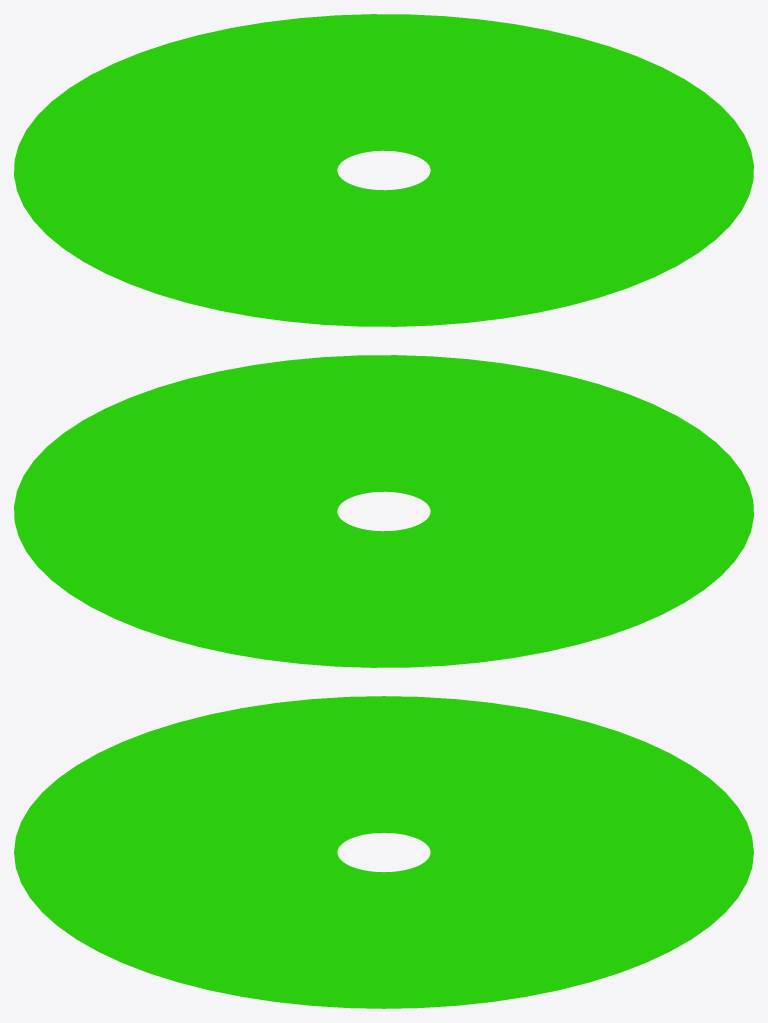
Rendered from p_mesh_trashbot_windpushroar_groundgoo01.fbx.
3 renders of one model, top to bottom at view 1: azimuth 30°, elevation 25°; view 2: azimuth 150°, elevation 25°; view 3: azimuth 270°, elevation 25°, orthographic.
Visible parts, largest first — view 1: goo; view 2: goo; view 3: goo.
Boxes of the visible parts, x1,y1,x2,y2 form: goo: [14, 14, 753, 326]; goo: [14, 355, 753, 667]; goo: [14, 696, 753, 1008].
Size of the model in its own units: 54.98 by 5.32e-06 by 54.98.
